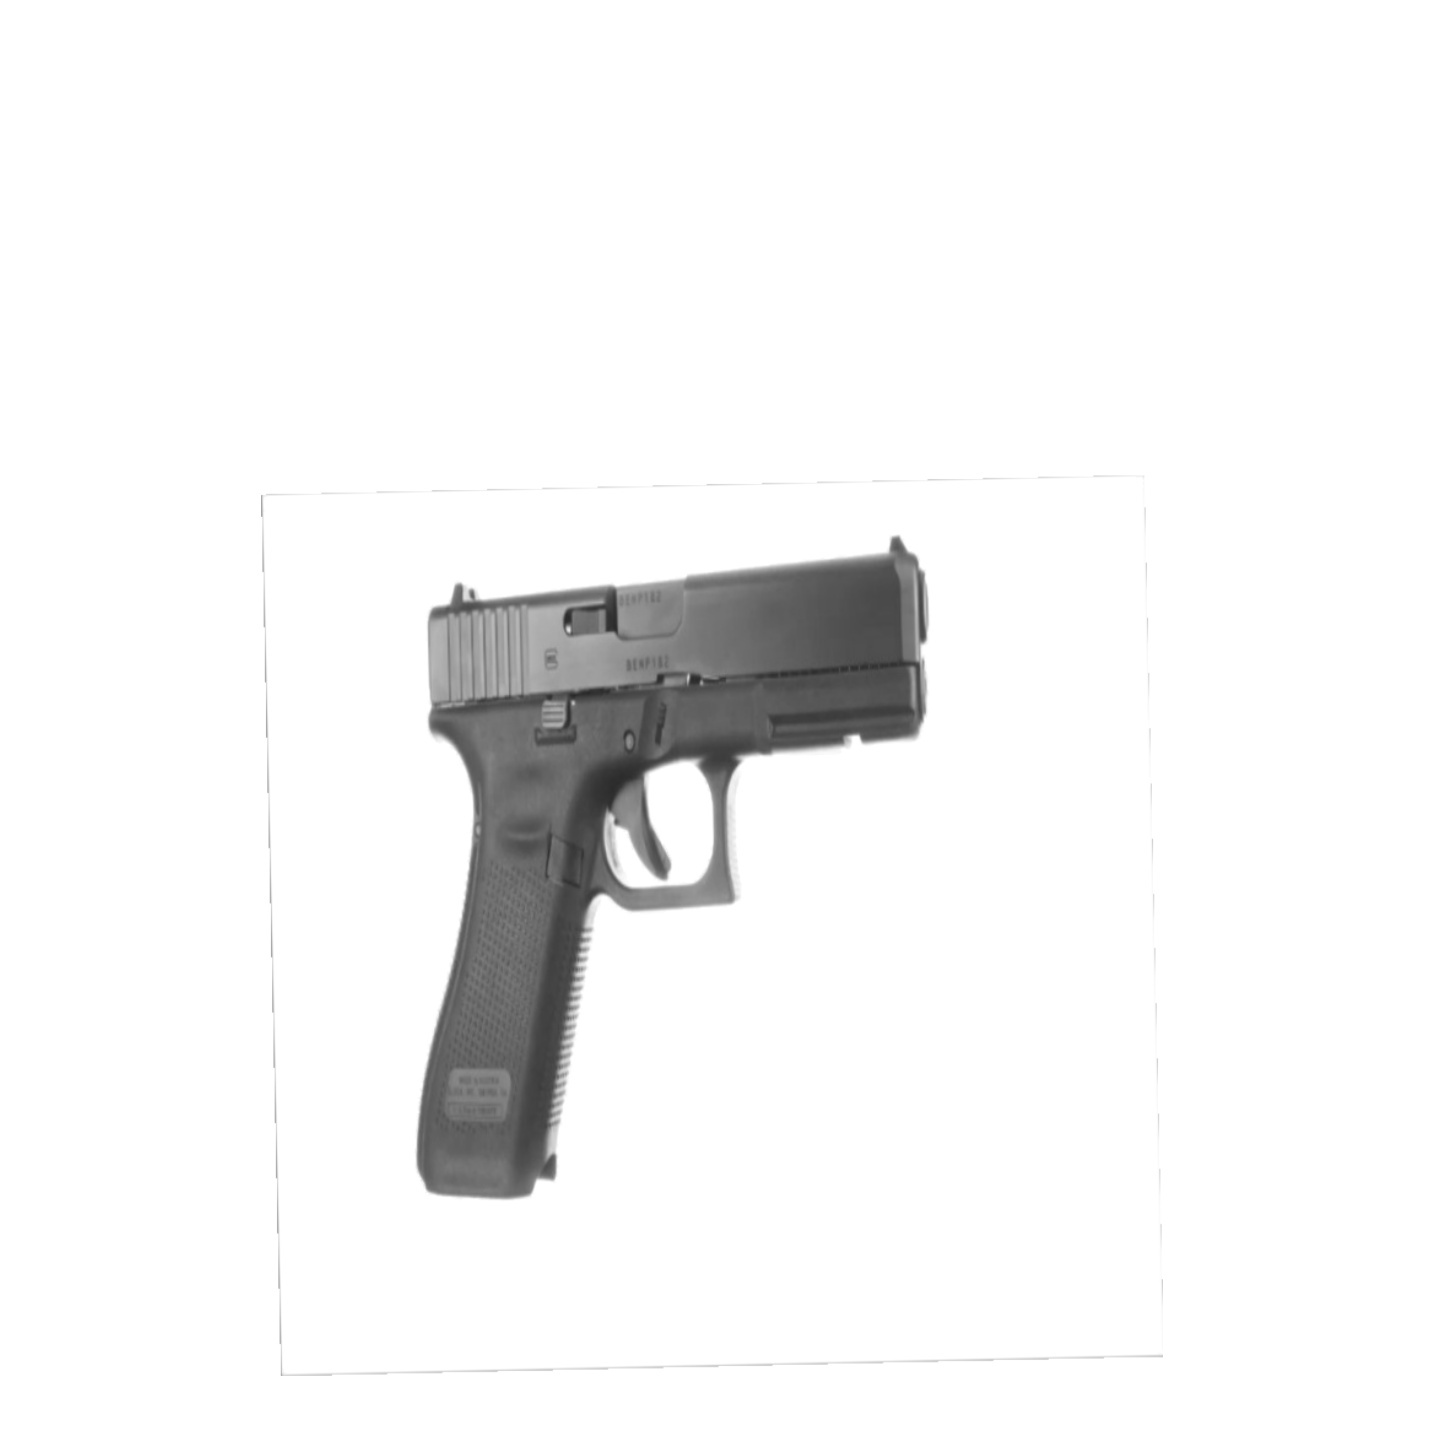gun: (413, 532, 930, 1202)
